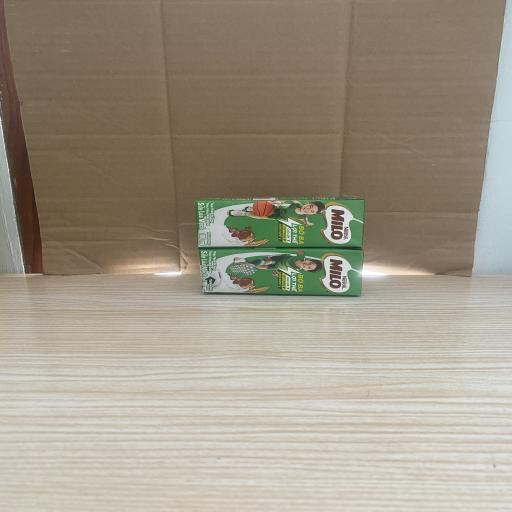milo: (195, 198, 365, 247), (198, 247, 364, 295)
